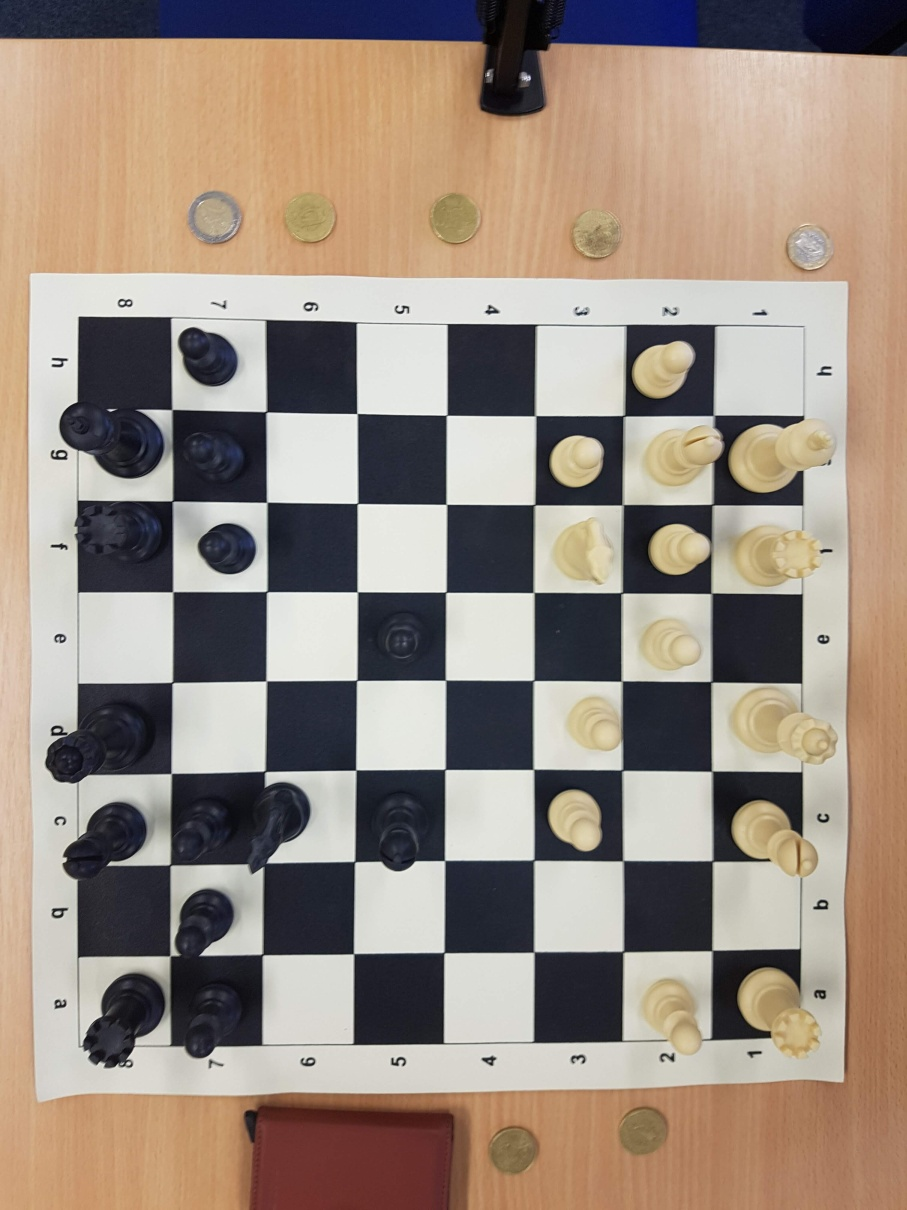chess_bishop: (730, 799, 818, 876), (61, 802, 147, 880), (642, 424, 724, 486), (372, 788, 431, 870)
chess_king: (58, 402, 164, 478), (729, 419, 836, 494)
chess_knight: (246, 782, 312, 874), (555, 518, 617, 584)
chess_pawn: (642, 979, 701, 1055), (184, 985, 238, 1058), (177, 889, 234, 955), (179, 326, 240, 387), (632, 339, 694, 399), (172, 798, 231, 859), (548, 790, 603, 851), (647, 523, 711, 575), (641, 618, 700, 671), (184, 431, 244, 483), (548, 434, 603, 488), (567, 696, 620, 752), (200, 524, 256, 574), (379, 612, 424, 664)
chess_queen: (44, 702, 153, 784), (733, 686, 837, 765)
chess_rook: (83, 972, 164, 1069), (736, 968, 820, 1058), (733, 524, 822, 588), (74, 503, 163, 564)
